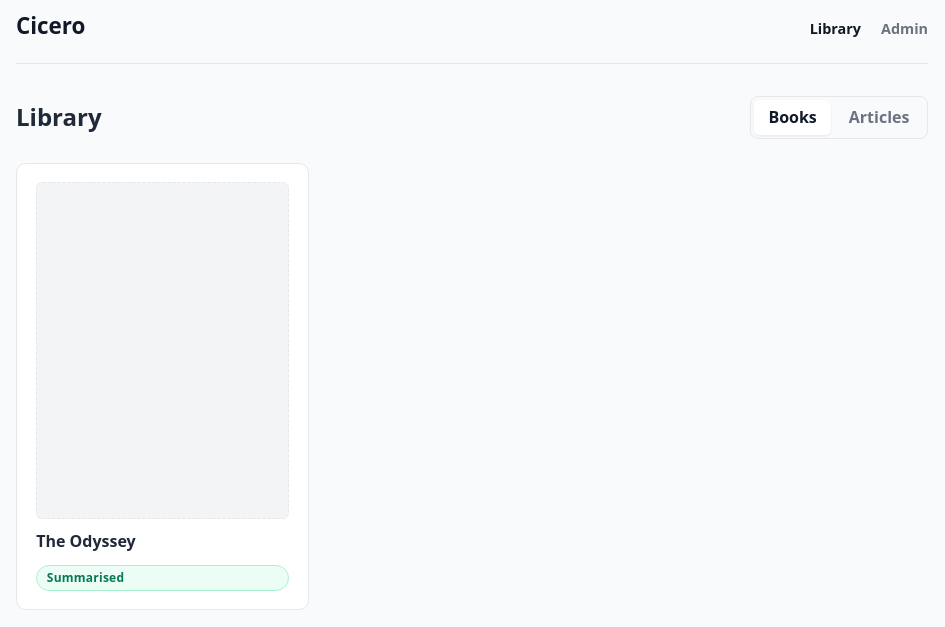
Scenario: LibraryPage › switches to articles, hiding books
Expected: the text "The Odyssey" is shown, [36, 530, 136, 552]
Click the button "Articles" at (879, 117), box [834, 100, 924, 135]
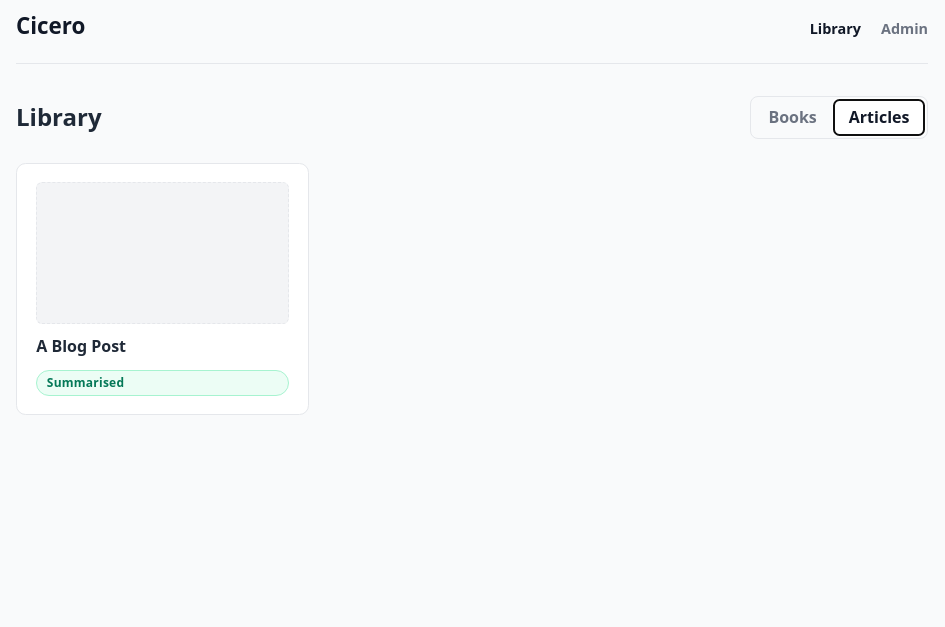
Now the text "A Blog Post" is shown, box [36, 335, 126, 357]
Now the link "The Odyssey" is gone
